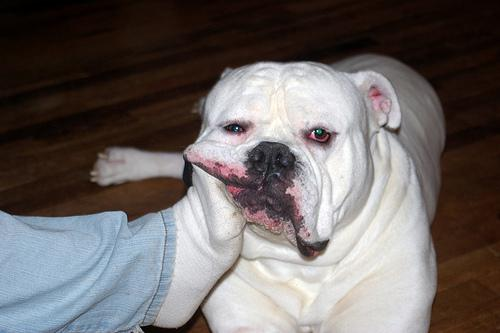dog-american_bulldog: (182, 59, 400, 255)
